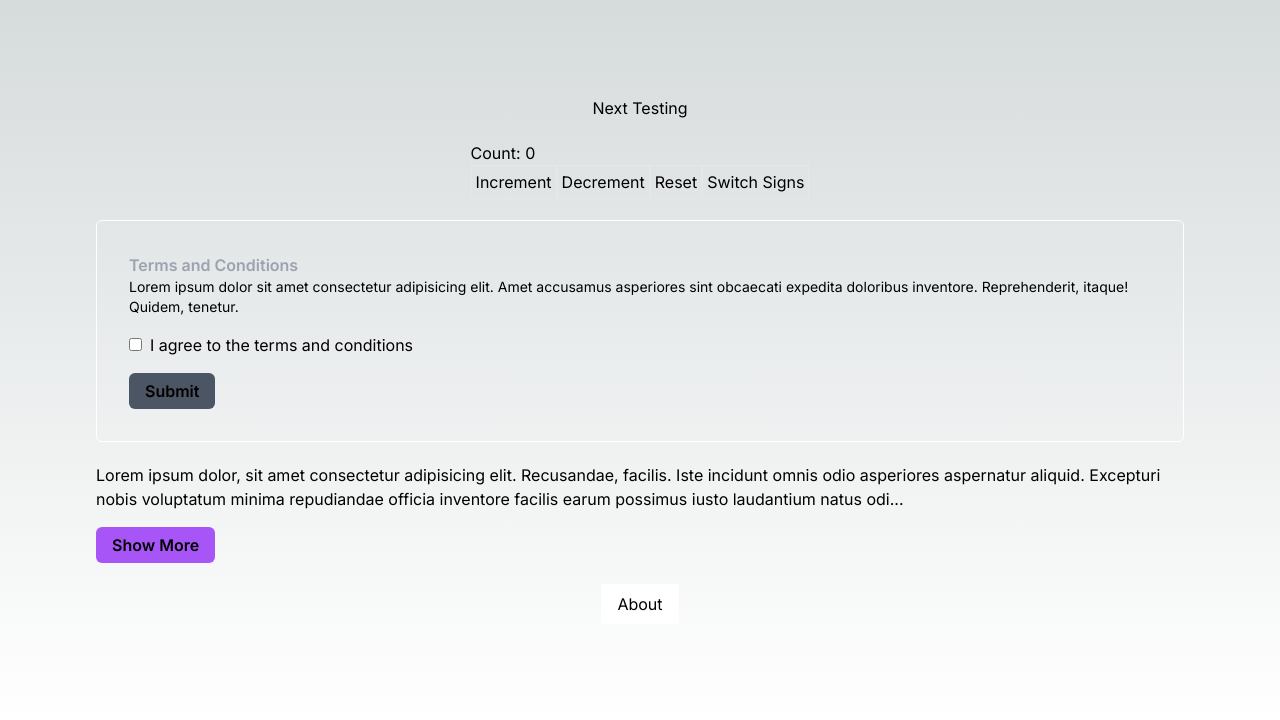
Test case: Home Page › should increment counter value when increment button is clicked
Expected: the text with test id "cypress-count" reads "Count: 0", [471, 143, 536, 163]
Step 1. Click the button with test id "cypress-increment" → {"x": 514, "y": 182}, box [471, 165, 557, 199]
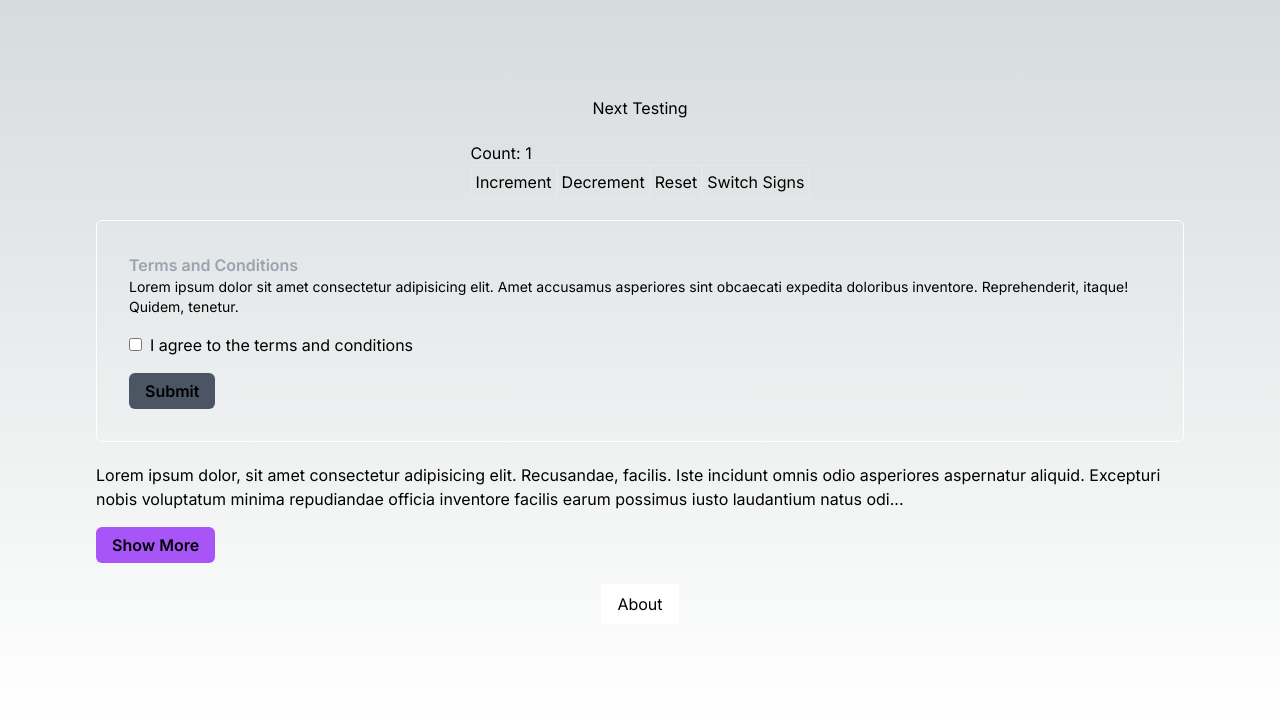
Expected: the text with test id "cypress-count" reads "Count: 1", [471, 143, 532, 163]
